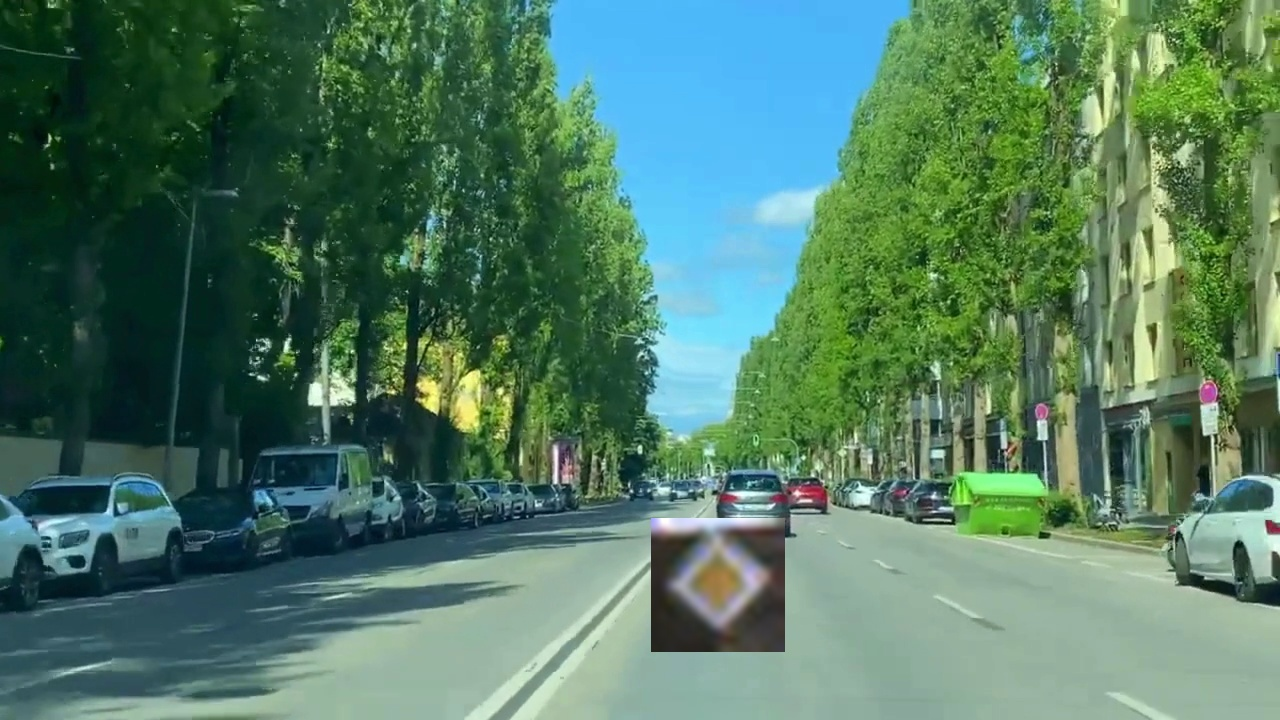Priority road: (651, 518, 785, 652)
